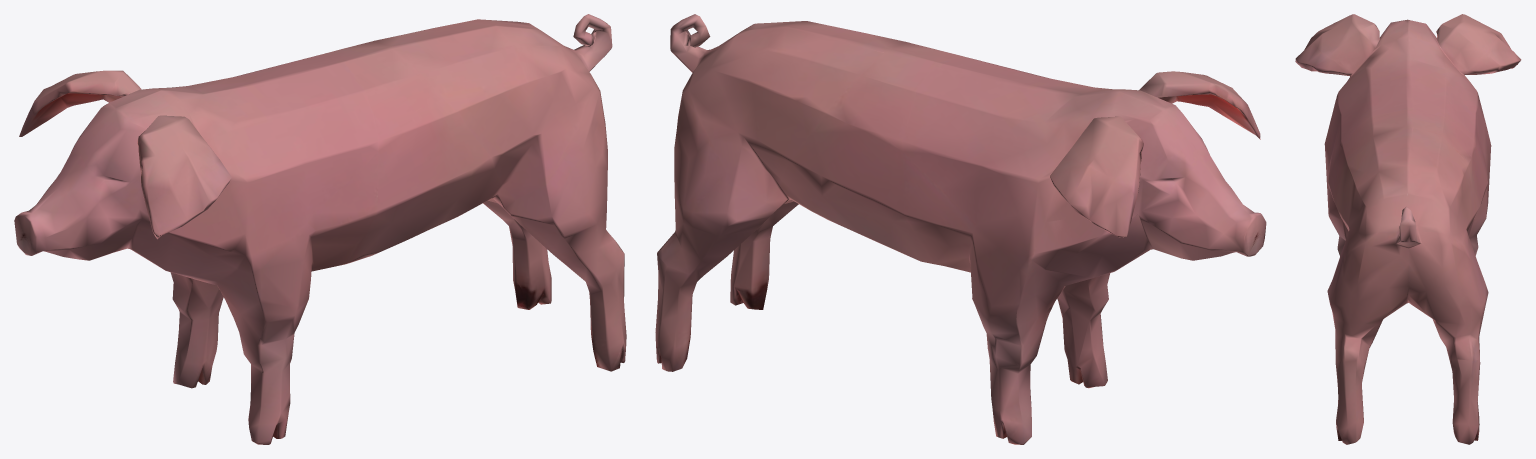
Rendered from pig.glb.
3 renders of one model, left to right at view 1: azimuth 30°, elevation 25°; view 2: azimuth 150°, elevation 25°; view 3: azimuth 270°, elevation 25°, orthographic. The views are drawn at different scales.
Visible parts, largest first — view 1: pig; view 2: pig; view 3: pig.
Part boxes in pixels (left/top/right/bottom): pig: left=14, top=14, right=626, bottom=444; pig: left=655, top=14, right=1266, bottom=444; pig: left=1295, top=14, right=1521, bottom=444.
Size of the model in its own units: 0.9977 by 0.5648 by 0.4449.
1 material, 1 textured.
